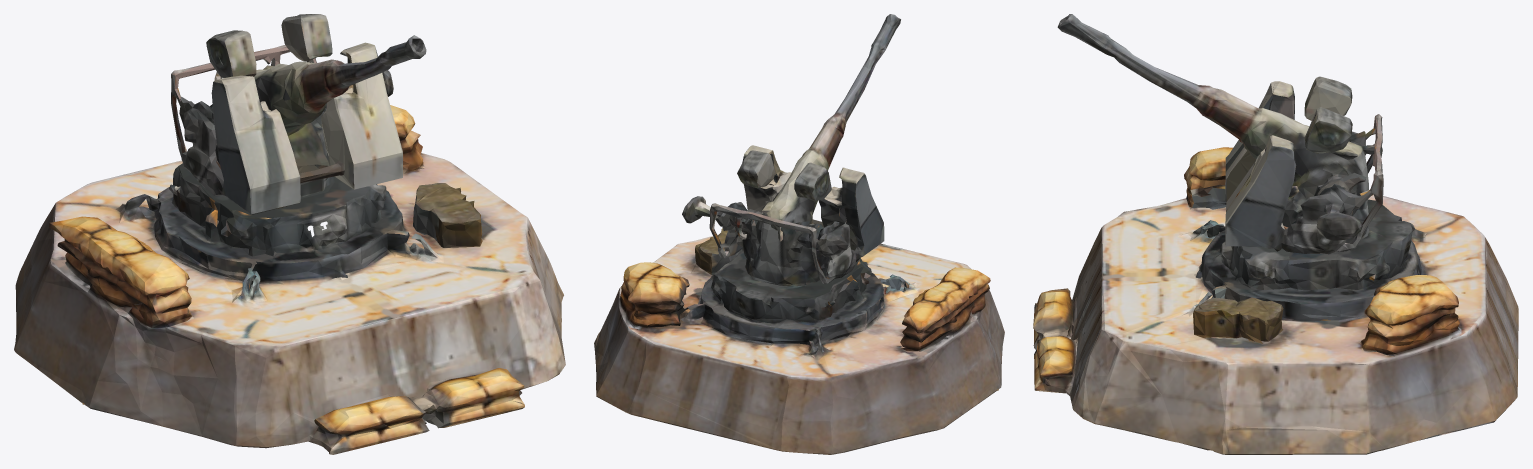
File: war_aa_platform_1117.glb
The picture shows the model from 3 angles, left to right: view 1: azimuth 30°, elevation 25°; view 2: azimuth 150°, elevation 25°; view 3: azimuth 270°, elevation 25°; orthographic projection. The views are drawn at different scales.
Visible parts, largest first — view 1: tmpiefp6u9t.ply; view 2: tmpiefp6u9t.ply; view 3: tmpiefp6u9t.ply.
Boxes of the visible parts, left/top/right/bottom form: tmpiefp6u9t.ply: left=14, top=14, right=565, bottom=454; tmpiefp6u9t.ply: left=594, top=14, right=1004, bottom=454; tmpiefp6u9t.ply: left=1033, top=14, right=1518, bottom=454.
Size of the model in its own units: 2 by 1.54 by 1.99.
Materials: 1 (1 with a texture image).
